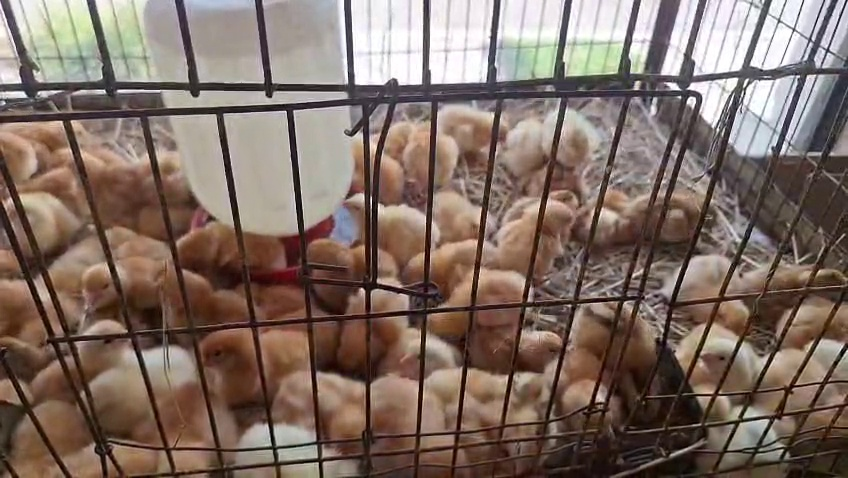Pollo: (359, 363, 469, 474), (189, 315, 315, 395), (83, 341, 195, 430), (262, 359, 368, 445), (527, 335, 633, 420), (220, 411, 354, 477), (151, 382, 238, 478), (697, 388, 789, 478), (475, 353, 550, 463), (288, 236, 403, 303), (716, 232, 821, 305), (552, 286, 639, 374), (341, 192, 443, 266), (739, 320, 804, 436), (497, 187, 576, 280), (330, 283, 418, 366), (647, 245, 740, 321), (675, 316, 764, 395), (34, 323, 132, 394), (75, 262, 187, 324), (7, 394, 89, 478), (63, 150, 157, 221), (53, 227, 173, 281), (177, 213, 276, 277), (410, 272, 534, 322), (752, 280, 847, 344), (46, 426, 161, 477), (776, 370, 845, 454), (125, 147, 198, 225), (0, 272, 72, 349), (1, 188, 77, 260), (619, 181, 699, 248), (772, 320, 848, 390), (326, 136, 407, 201), (414, 100, 506, 157), (410, 185, 488, 251), (462, 308, 555, 360), (159, 287, 267, 330), (216, 275, 315, 319), (368, 324, 455, 374), (17, 149, 86, 207), (0, 122, 79, 172), (508, 149, 585, 199), (404, 119, 461, 183), (472, 432, 551, 478), (570, 176, 619, 249), (502, 111, 555, 176), (541, 109, 600, 167), (59, 288, 129, 332), (414, 244, 492, 280), (481, 193, 533, 245), (368, 109, 407, 164)
